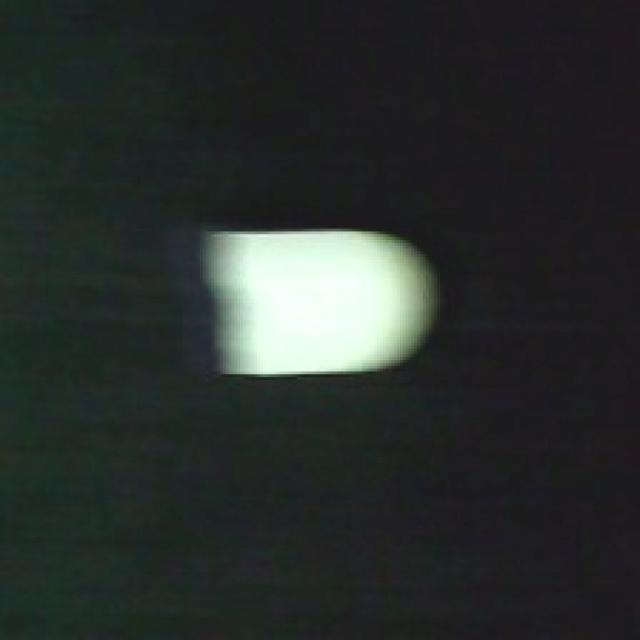defected: (200, 226, 443, 380)
